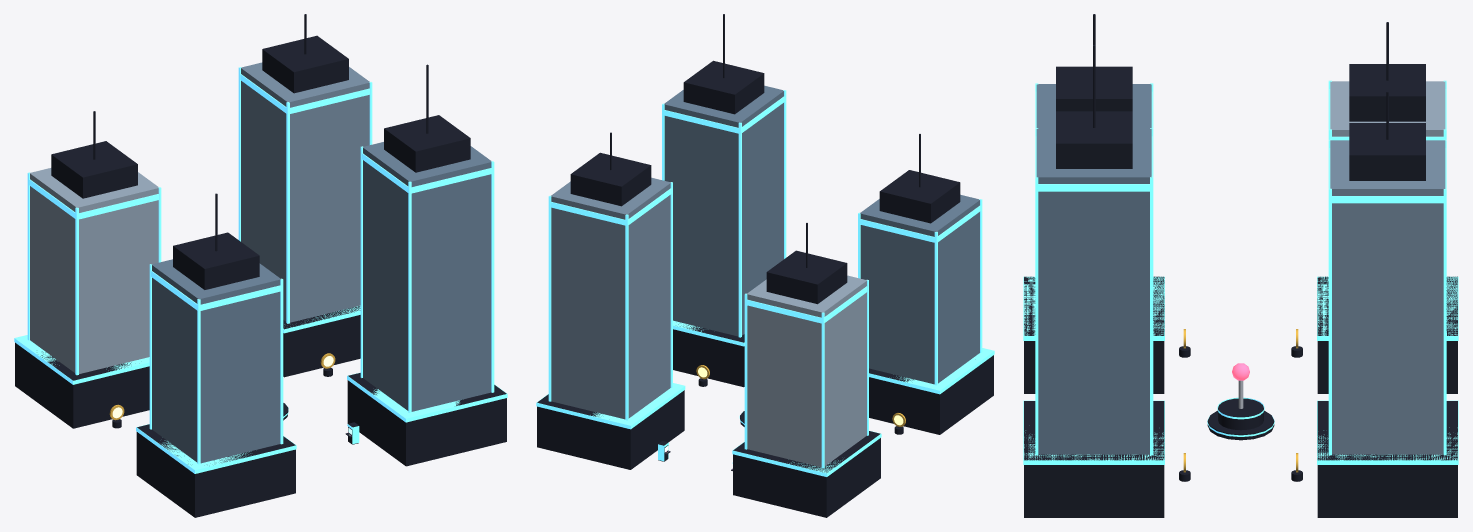
The picture shows the model from 3 angles, left to right: view 1: azimuth 30°, elevation 25°; view 2: azimuth 150°, elevation 25°; view 3: azimuth 270°, elevation 25°; orthographic projection. The views are drawn at different scales.
Visible parts, largest first — view 1: district_city_arcade.lod1; view 2: district_city_arcade.lod1; view 3: district_city_arcade.lod1.
Boxes of the visible parts, x1,y1,x2,y2 form: district_city_arcade.lod1: (14, 14, 507, 517); district_city_arcade.lod1: (536, 14, 994, 517); district_city_arcade.lod1: (1023, 14, 1458, 517).
Bounding box in the file's own units: 34.1 × 38.29 × 34.1.
